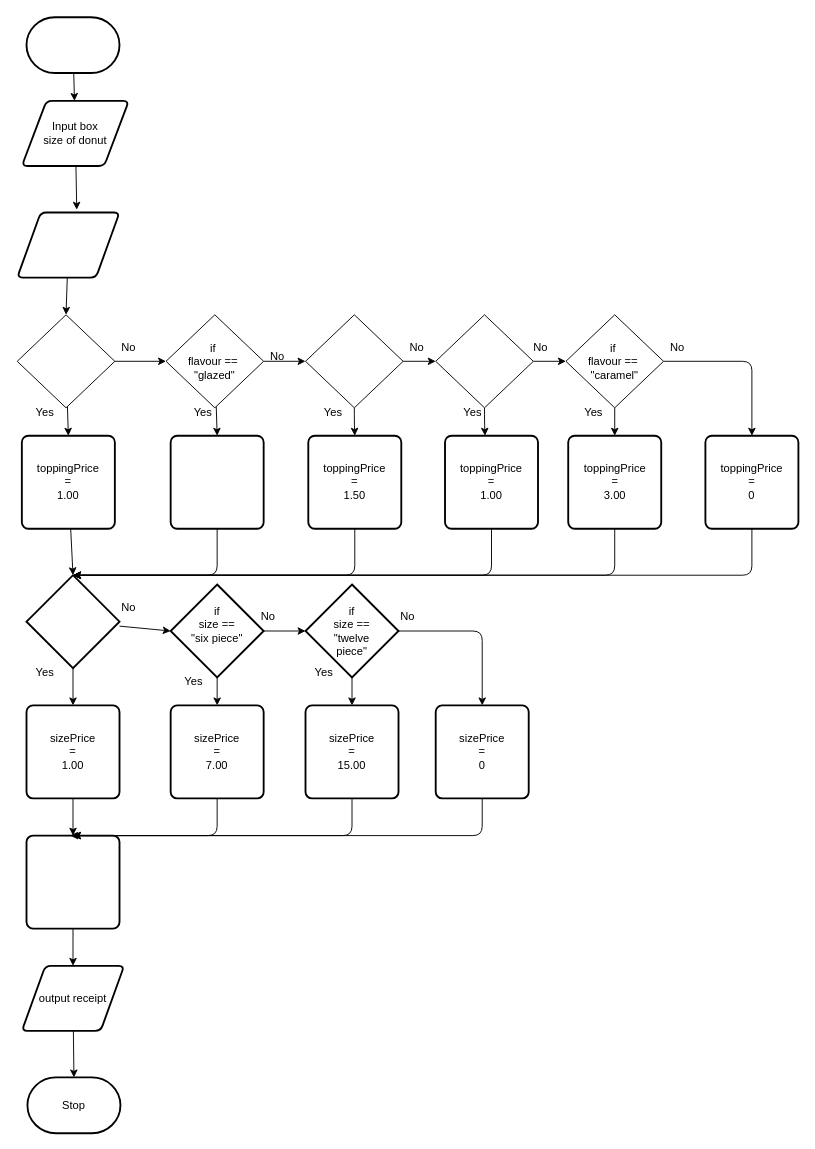
The diagram is 815 pixels wide and 1149 high, and some of its shapes have lost their labels. Here are the shapes that lost their labels. From the top down, the centre of each, then its label:
(x=72, y=44): Start
(x=68, y=244): Input topping
(x=65, y=361): if flavour == "sprinkles"
(x=354, y=361): if flavour == "jam filling"
(x=484, y=361): if flavour == "powdered sugar"
(x=216, y=481): toppingPrice = 2.00
(x=72, y=621): if size == "one piece"
(x=72, y=881): totalPrice = (sizePrice + toppingPrice) * TAX_RATE
